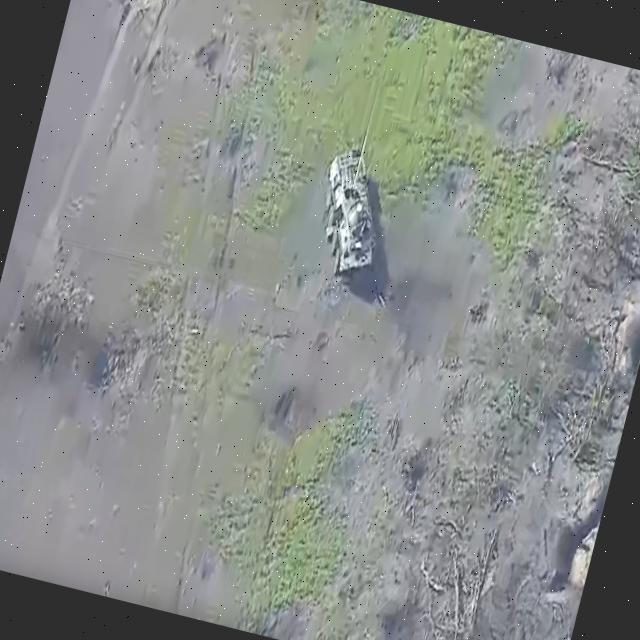APC: (301, 138, 402, 289)
